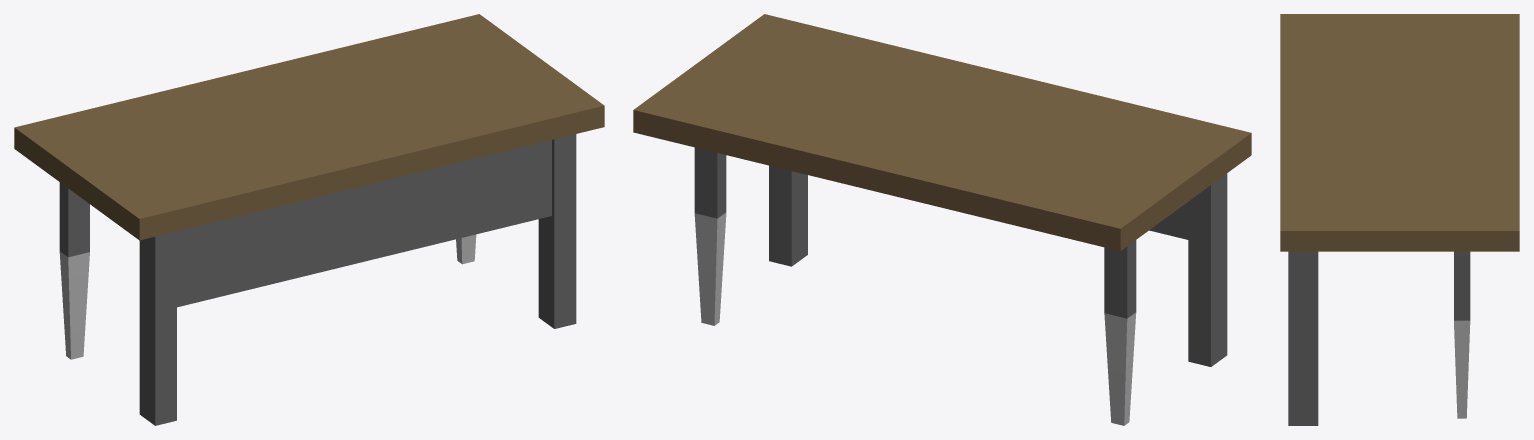
The model's file is desk.fbx.
3 renders of one model, left to right at view 1: azimuth 30°, elevation 25°; view 2: azimuth 150°, elevation 25°; view 3: azimuth 270°, elevation 25°, orthographic. The views are drawn at different scales.
Visible parts, largest first — view 1: polySurface1; view 2: polySurface1; view 3: polySurface1.
Part boxes in pixels (x1,y1,x2,y2): polySurface1: (14,14,604,425); polySurface1: (633,14,1251,425); polySurface1: (1280,14,1519,425).
Size of the model in its own units: 23.22 by 10.28 by 10.83.
